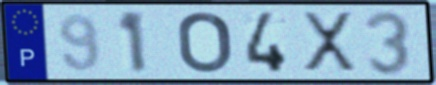1: (115, 9, 149, 76)
3: (363, 7, 415, 79)
4: (243, 10, 291, 75)
9: (56, 12, 103, 74)
O: (175, 10, 233, 75)
X: (300, 10, 360, 75)
